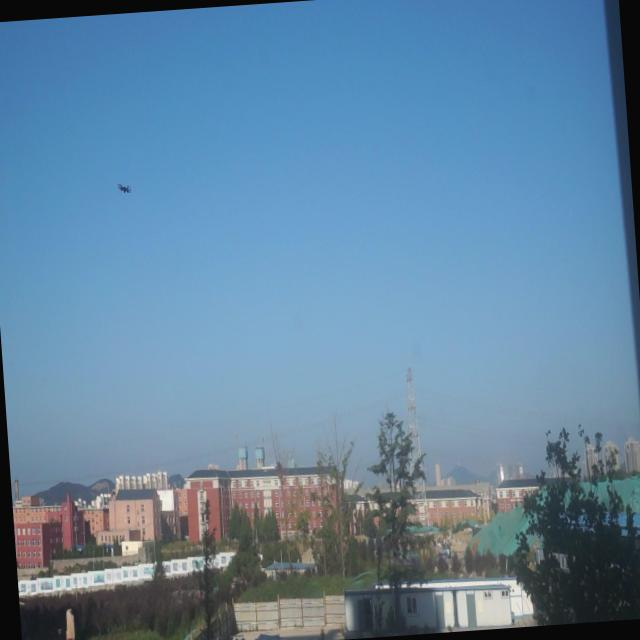drone: (115, 177, 134, 200)
